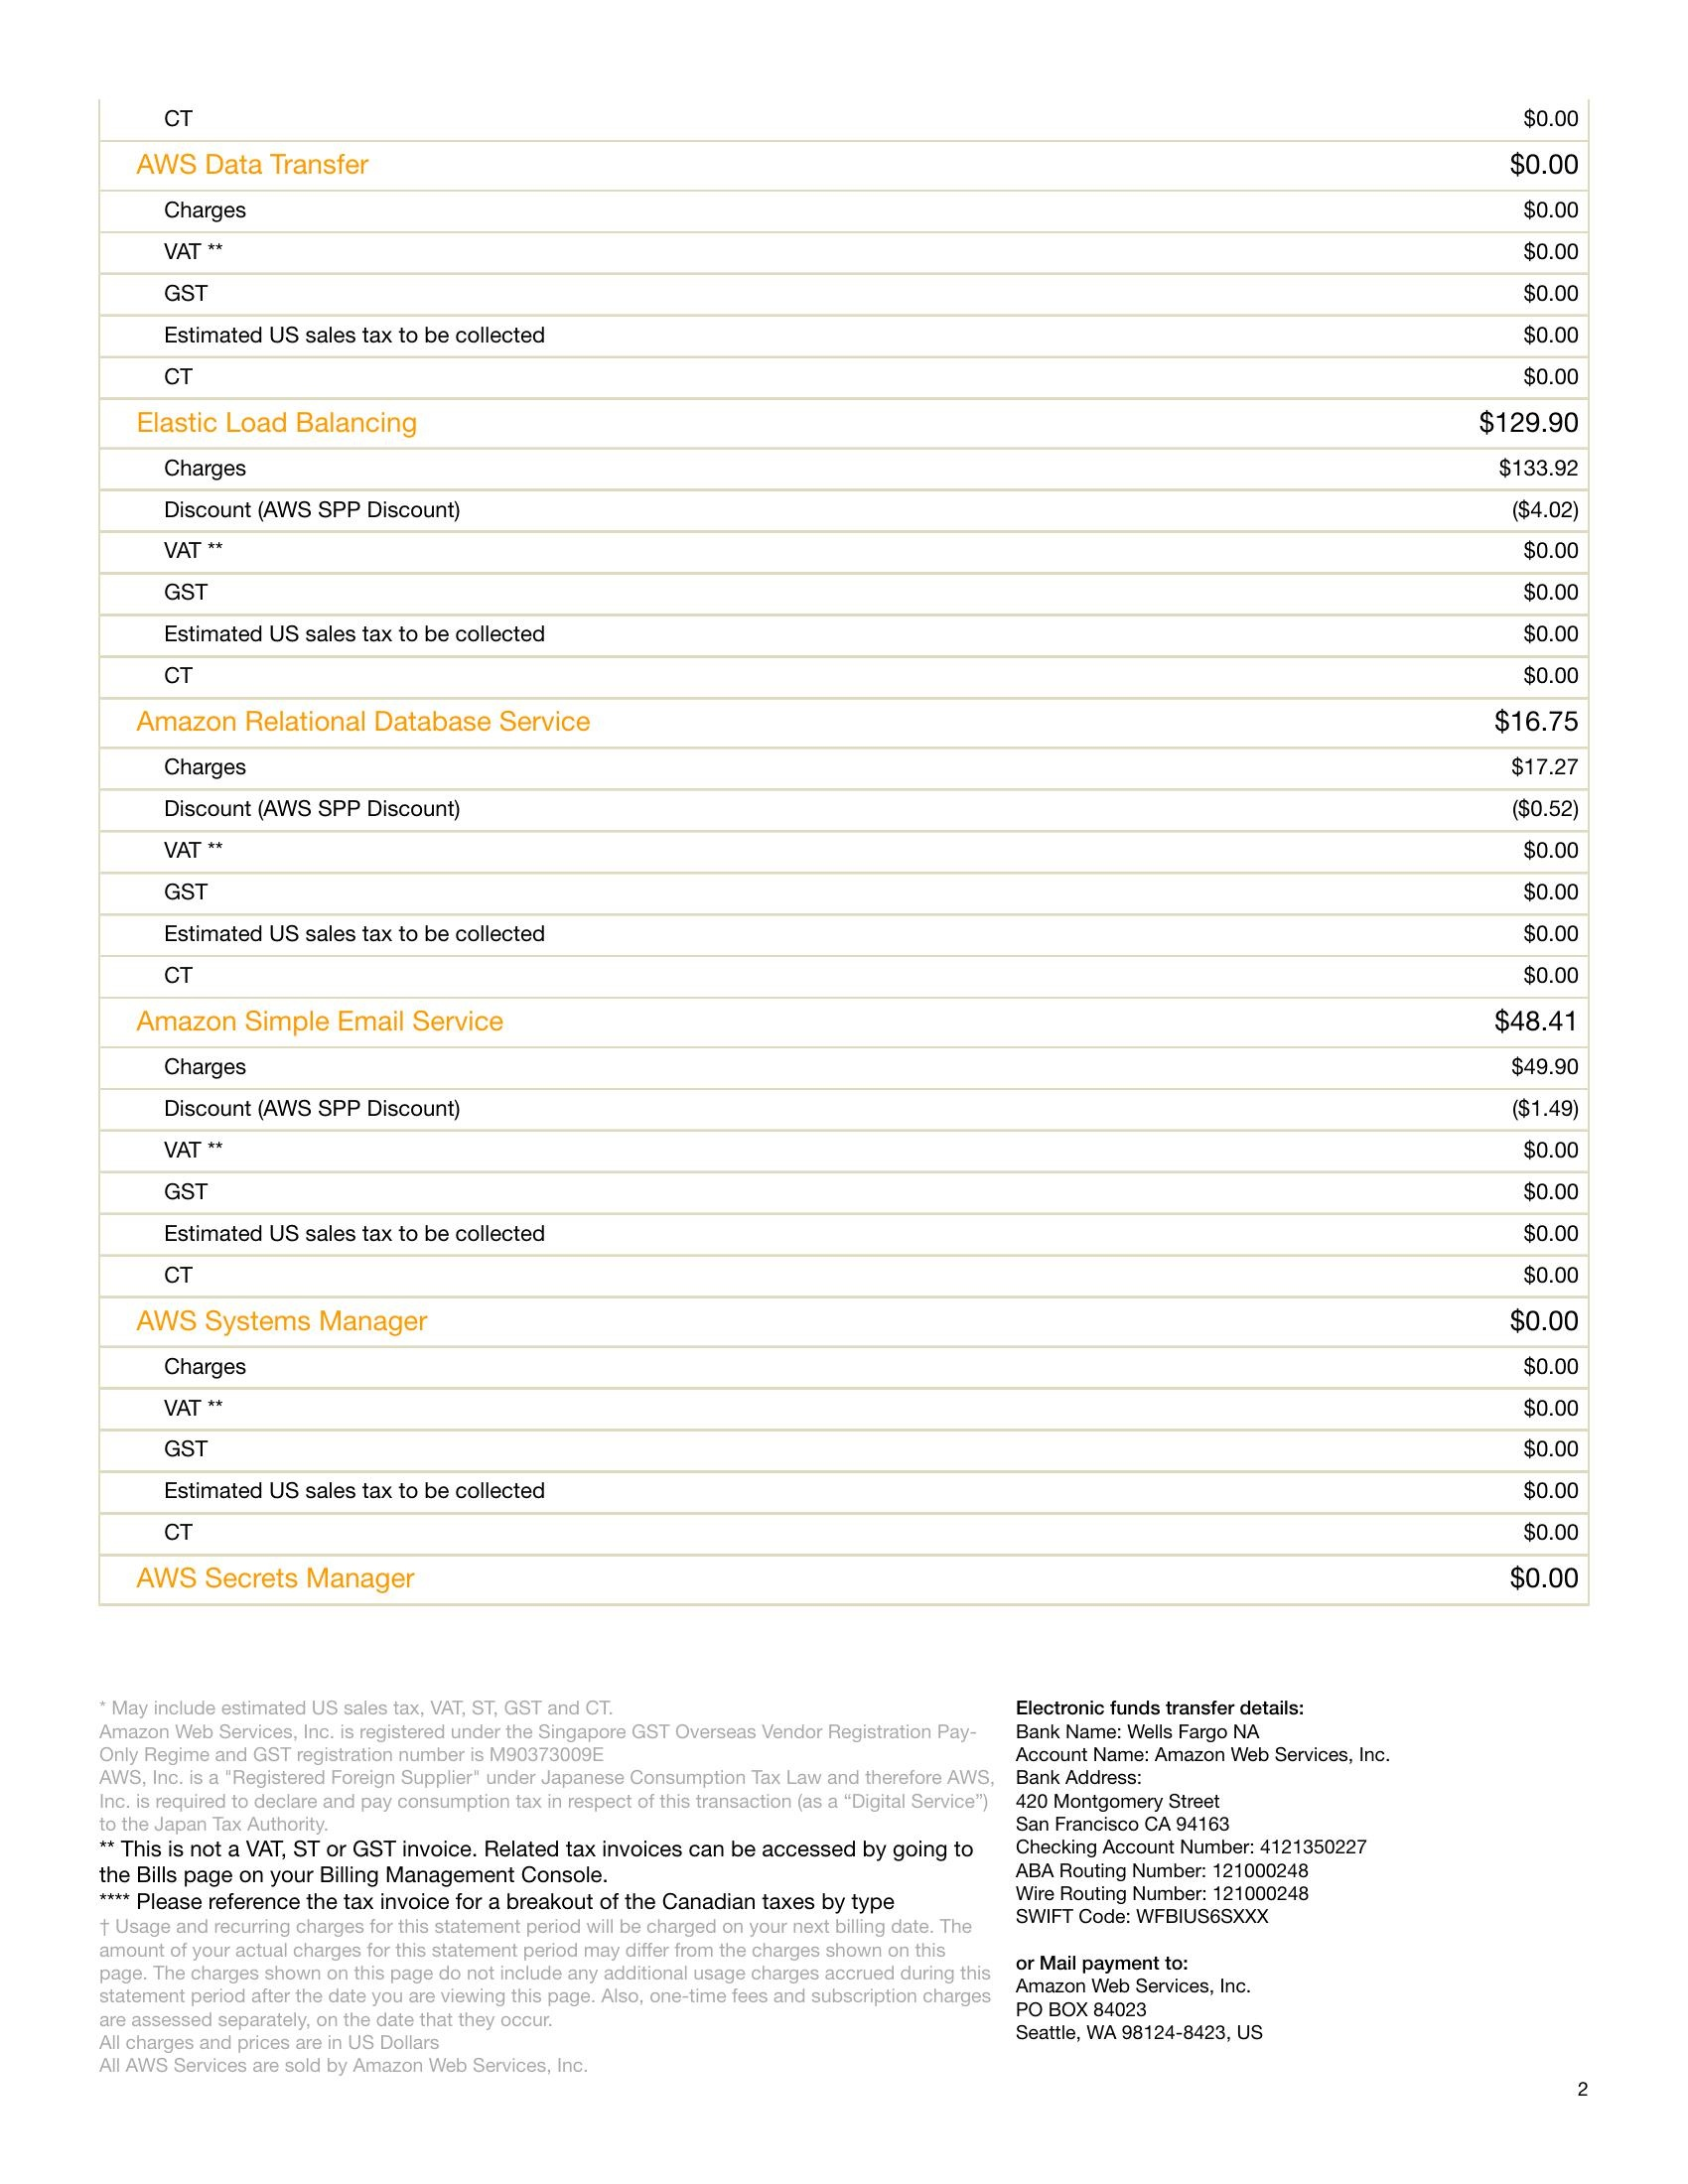0 table: (78, 69, 1612, 1622)
